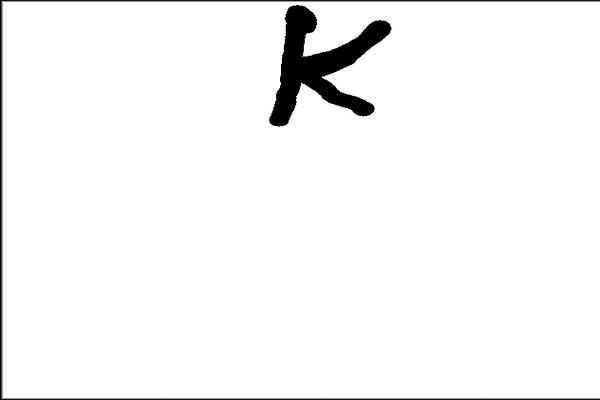K: (259, 3, 401, 140)
